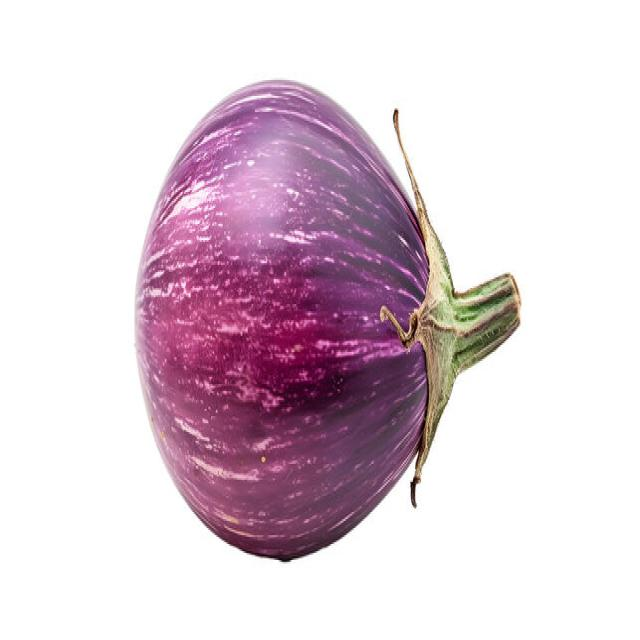Eggplant: (138, 85, 526, 571)
